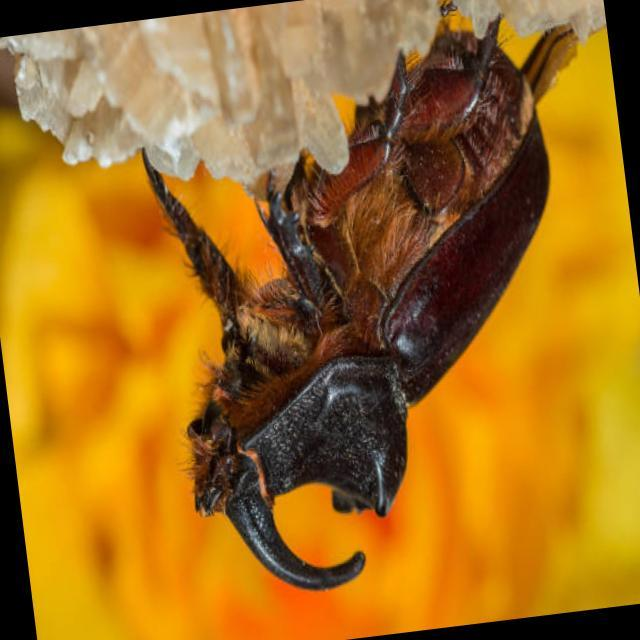Rhino-beetle: (97, 14, 595, 604)
